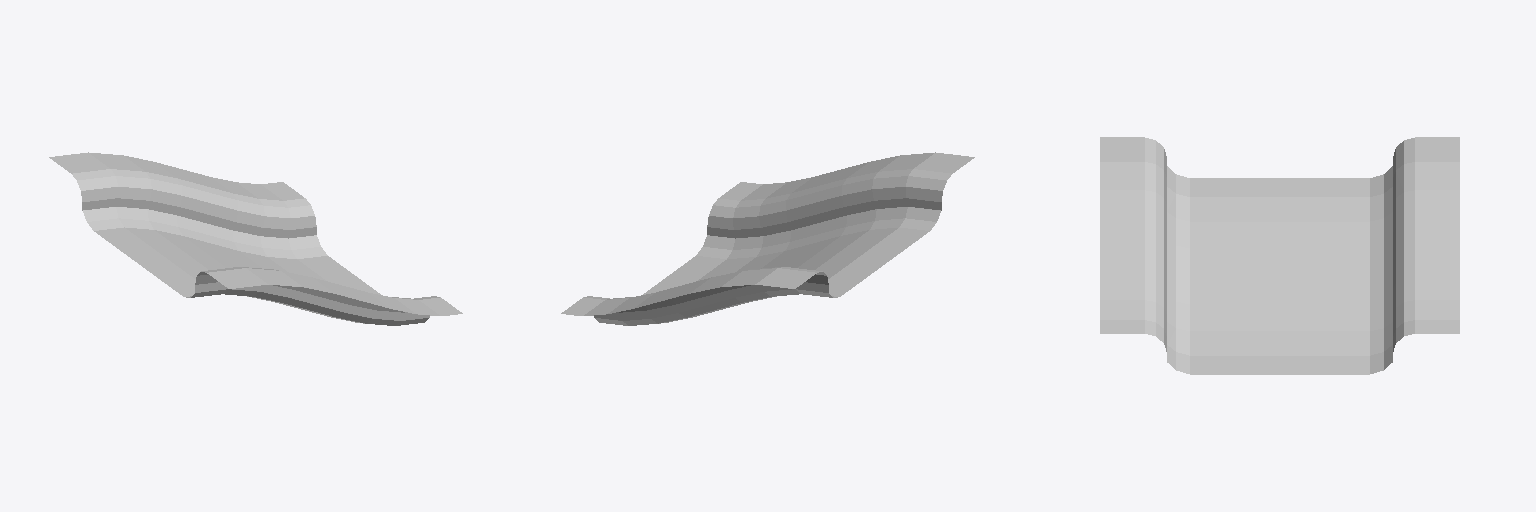
The model's file is Track_Standard_Incline_Double.obj.
3 renders of one model, left to right at view 1: azimuth 30°, elevation 25°; view 2: azimuth 150°, elevation 25°; view 3: azimuth 270°, elevation 25°, orthographic.
Parts seen in each view (by area): view 1: Grass, Dirt; view 2: Grass, Dirt; view 3: Dirt, Grass.
Part boxes in pixels (left/top/right/bottom): Grass: left=49, top=152, right=462, bottom=320; Dirt: left=83, top=207, right=428, bottom=325; Grass: left=561, top=152, right=974, bottom=320; Dirt: left=595, top=207, right=940, bottom=325; Dirt: left=1167, top=166, right=1392, bottom=374; Grass: left=1100, top=137, right=1459, bottom=351.
Size of the model in its own units: 3 by 1.5 by 4.